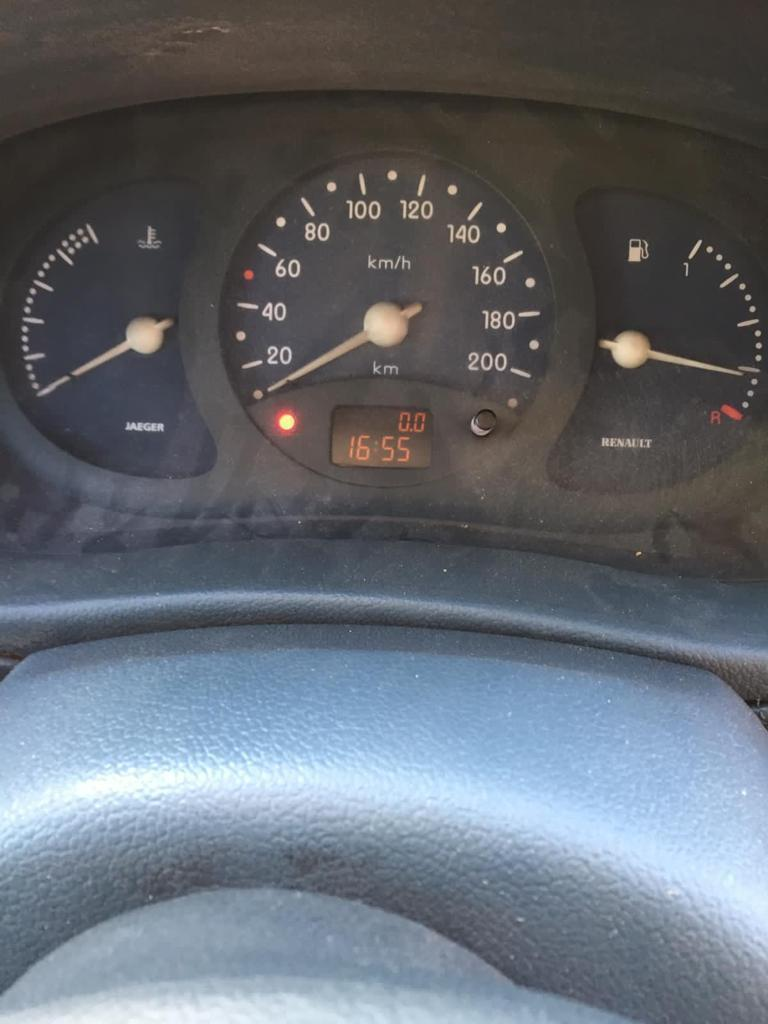,: (410, 427, 413, 433)
0: (413, 409, 427, 432), (397, 409, 410, 433)
1: (346, 433, 356, 460)
5: (379, 434, 395, 462), (396, 434, 411, 463)
6: (356, 433, 371, 462)
X: (371, 439, 379, 453)
odometer: (321, 400, 442, 474)
